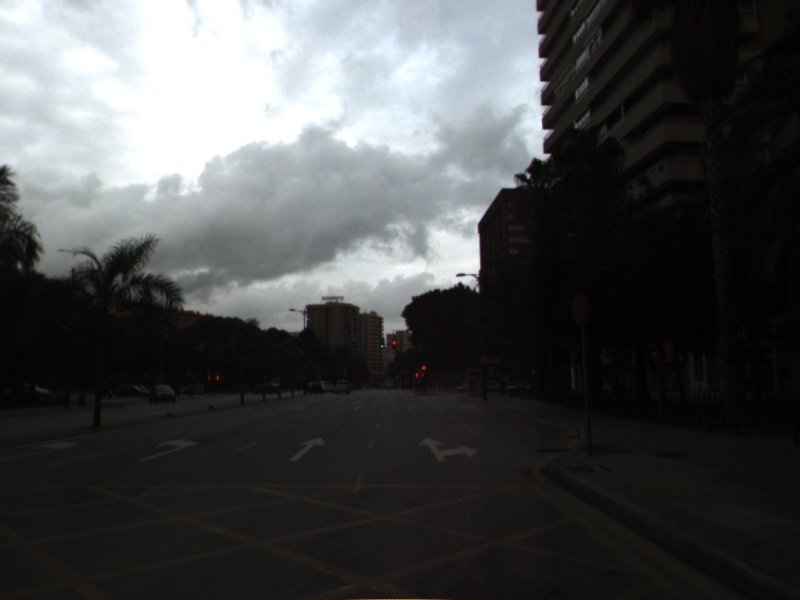LEFT: (1, 439, 80, 463), (133, 436, 200, 463)
STRAIGHT: (287, 435, 327, 463)
STRAIGHT_RIGHT: (416, 434, 480, 464)
